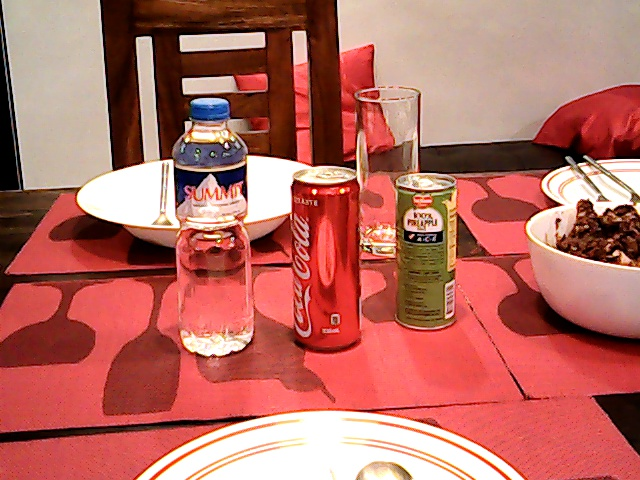Cola: (279, 159, 369, 358)
Pine Juice: (380, 170, 467, 336)
Summit Water: (163, 91, 261, 366)
